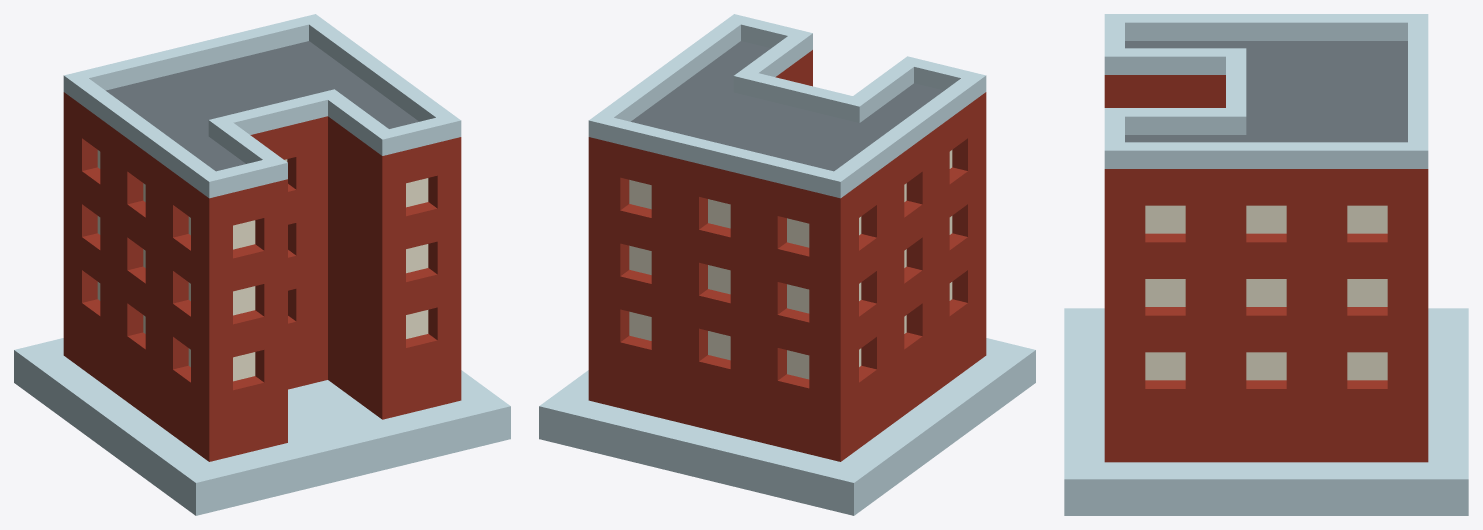
The model's file is Building_5_Base (Red).obj.
The picture shows the model from 3 angles, left to right: view 1: azimuth 30°, elevation 25°; view 2: azimuth 150°, elevation 25°; view 3: azimuth 270°, elevation 25°; orthographic projection. The views are drawn at different scales.
Parts seen in each view (by area): view 1: Building_5_Base_(Red); view 2: Building_5_Base_(Red); view 3: Building_5_Base_(Red).
Boxes of the visible parts, x1,y1,x2,y2 form: Building_5_Base_(Red): (14, 14, 510, 515); Building_5_Base_(Red): (539, 14, 1035, 515); Building_5_Base_(Red): (1064, 14, 1468, 515).
Bounding box in the file's own units: 2 × 1.9 × 2.
